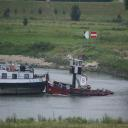tugboat: (46, 57, 116, 101)
